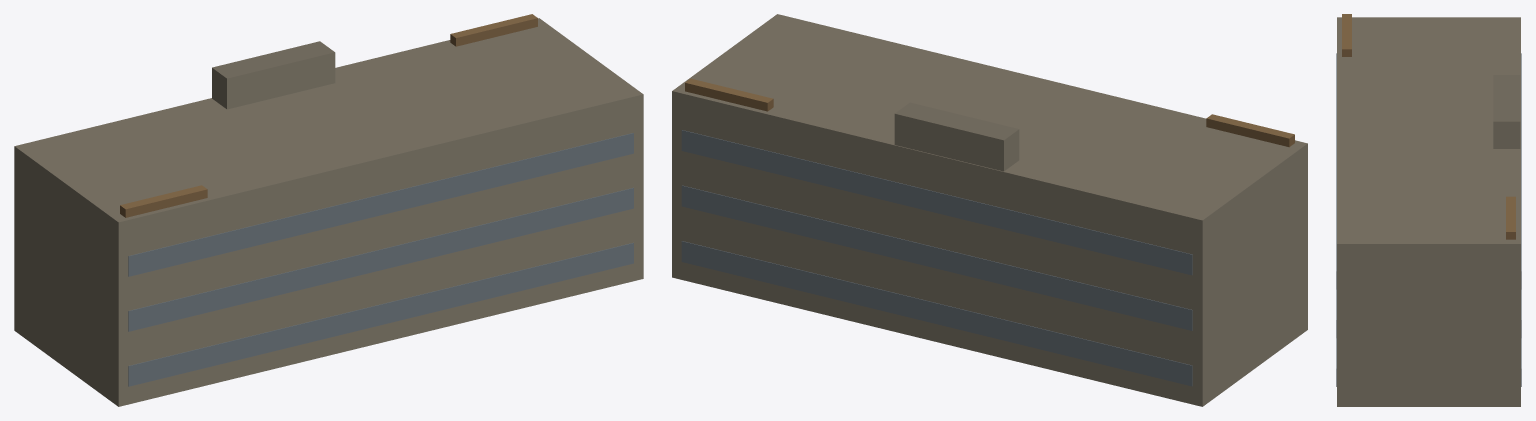
Rendered from mb-barracks-3s.garrison-v1.lod2.glb.
3 renders of one model, left to right at view 1: azimuth 30°, elevation 25°; view 2: azimuth 150°, elevation 25°; view 3: azimuth 270°, elevation 25°, orthographic. The views are drawn at different scales.
Parts seen in each view (by area): view 1: mb-barracks-3s; view 2: mb-barracks-3s; view 3: mb-barracks-3s.
Part boxes in pixels (x1,y1,x2,y2): mb-barracks-3s: [14, 14, 643, 406]; mb-barracks-3s: [672, 14, 1307, 406]; mb-barracks-3s: [1336, 14, 1521, 406].
Size of the model in its own units: 32 by 12.55 by 11.06.
